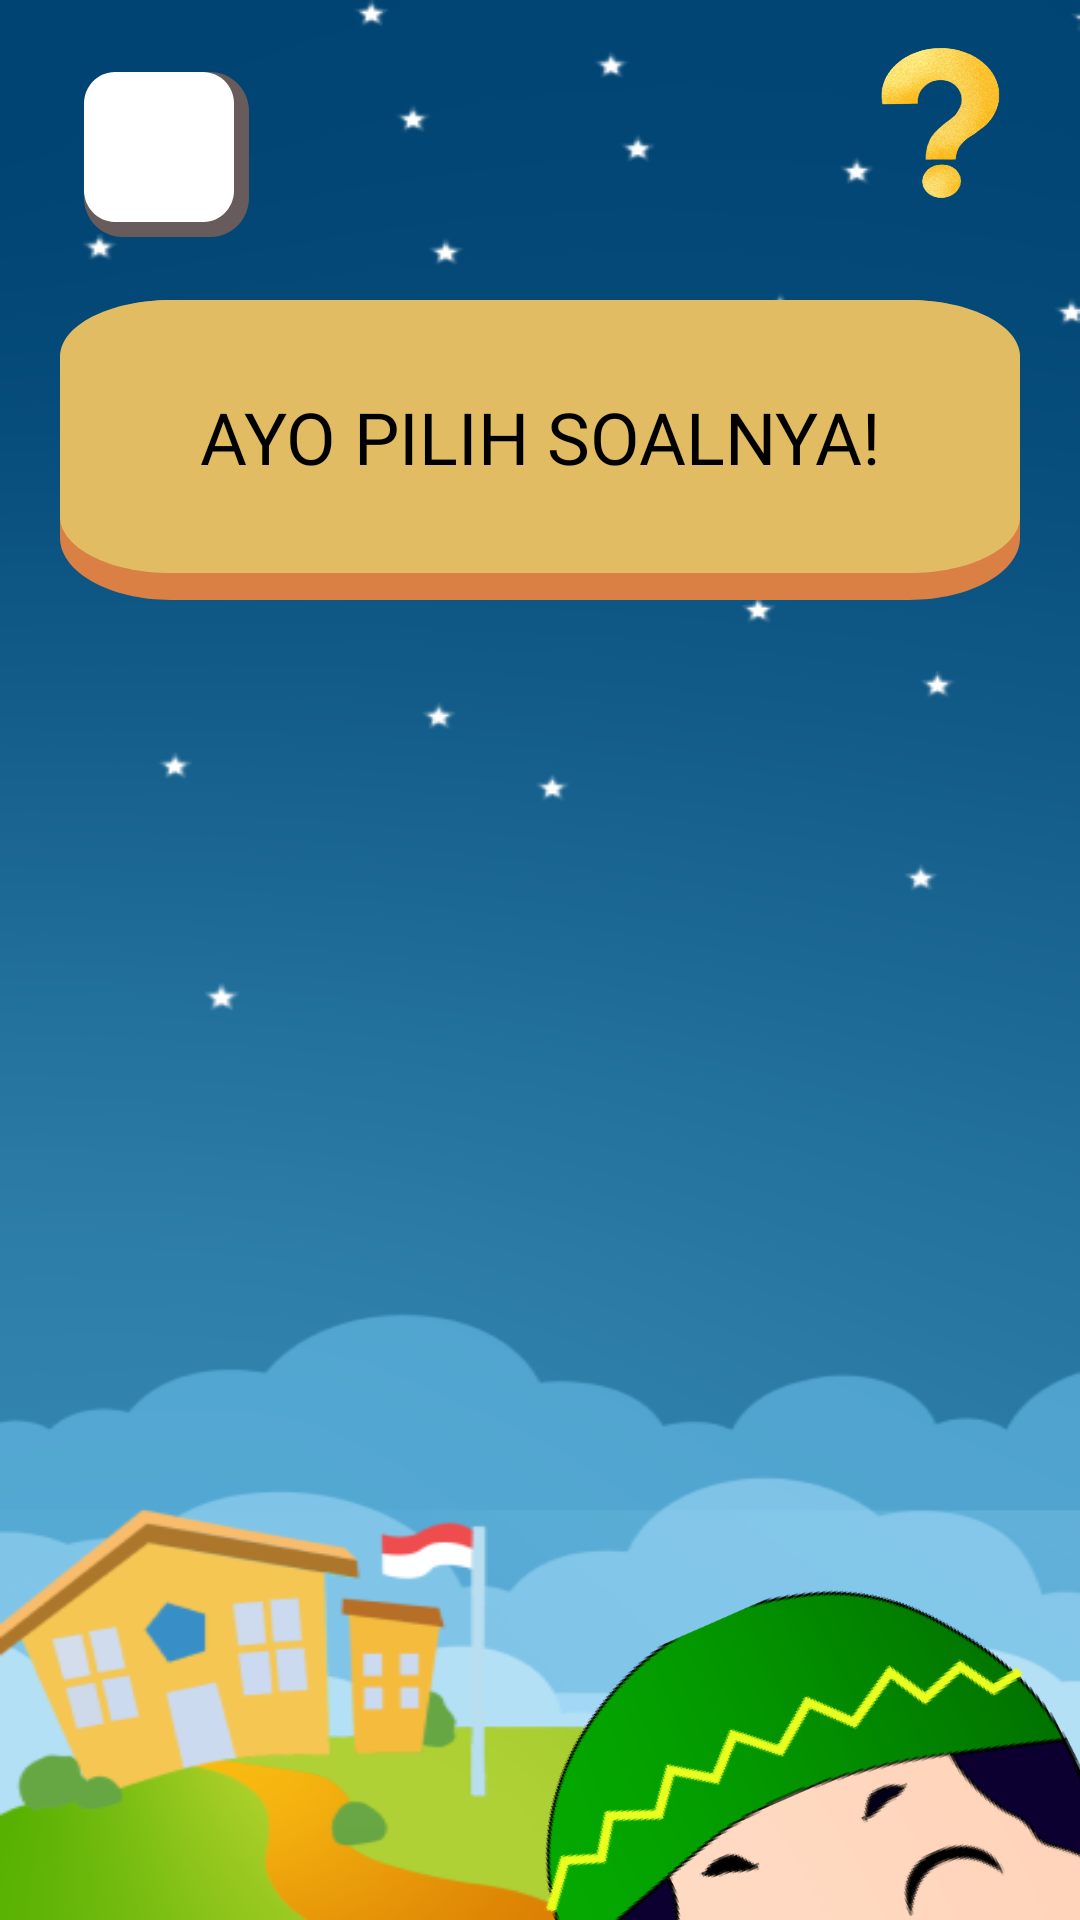

Icon bounding boxes for this 1080 x 1920 phone screenshot, format (x1, y1, x2, y2):
question: (881, 48, 1000, 198)
